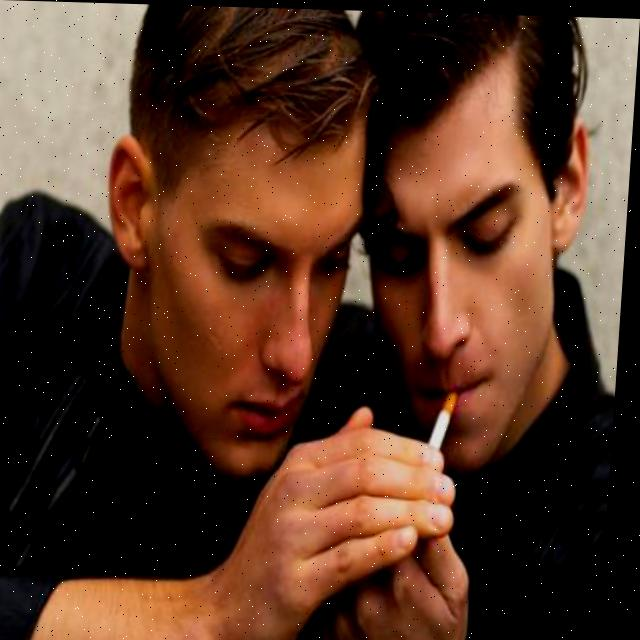cigarette: (434, 385, 466, 449)
